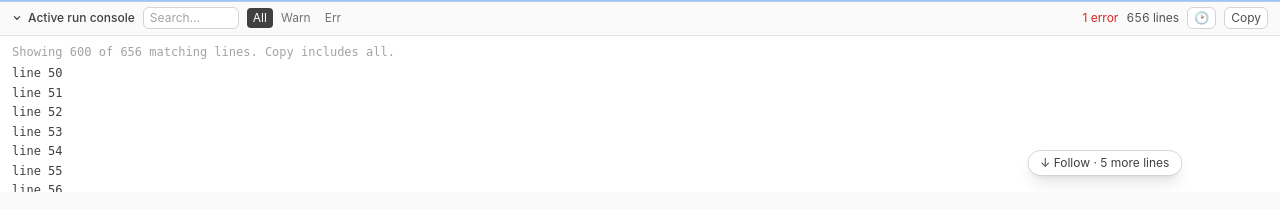
it: Console › keeps the lines being read in place while new lines arrive
Expected: the text "line 50" is shown, [12,66,63,80]
Expected: the text "line 654" is not shown
Click the button "↓ Follow · 5 more lines". click: (1105, 163)
box: [1027,150,1182,176]
(page scrolled)
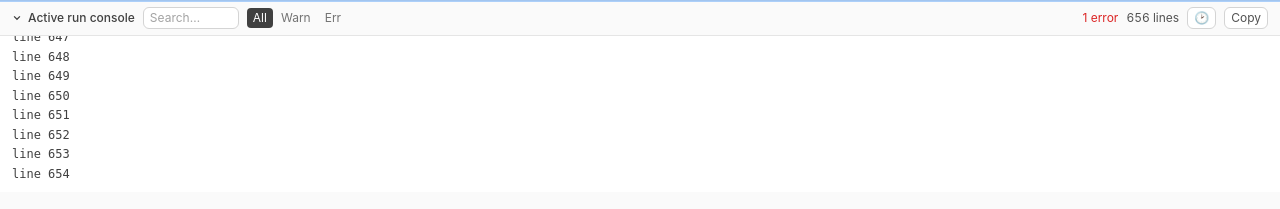
Result: the text "line 654" is shown at [12,166,70,180]
Result: the text "line 50" is gone
Result: the button "Follow" is gone
